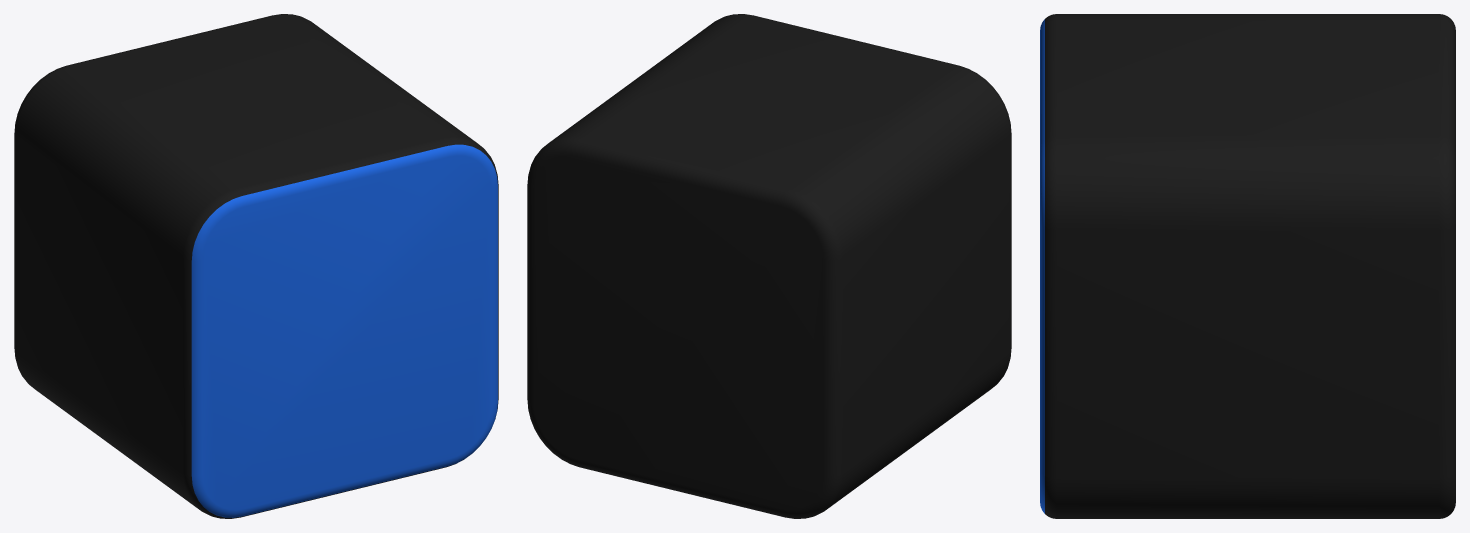
The model's file is b_center.glb.
3 renders of one model, left to right at view 1: azimuth 30°, elevation 25°; view 2: azimuth 150°, elevation 25°; view 3: azimuth 270°, elevation 25°, orthographic. The views are drawn at different scales.
Parts seen in each view (by area): view 1: Cube.016; view 2: Cube.016; view 3: Cube.016.
Part boxes in pixels (bbox=[...]): Cube.016: bbox=[14, 14, 498, 518]; Cube.016: bbox=[527, 14, 1011, 518]; Cube.016: bbox=[1040, 14, 1455, 518].
Size of the model in its own units: 2 by 2 by 2.
